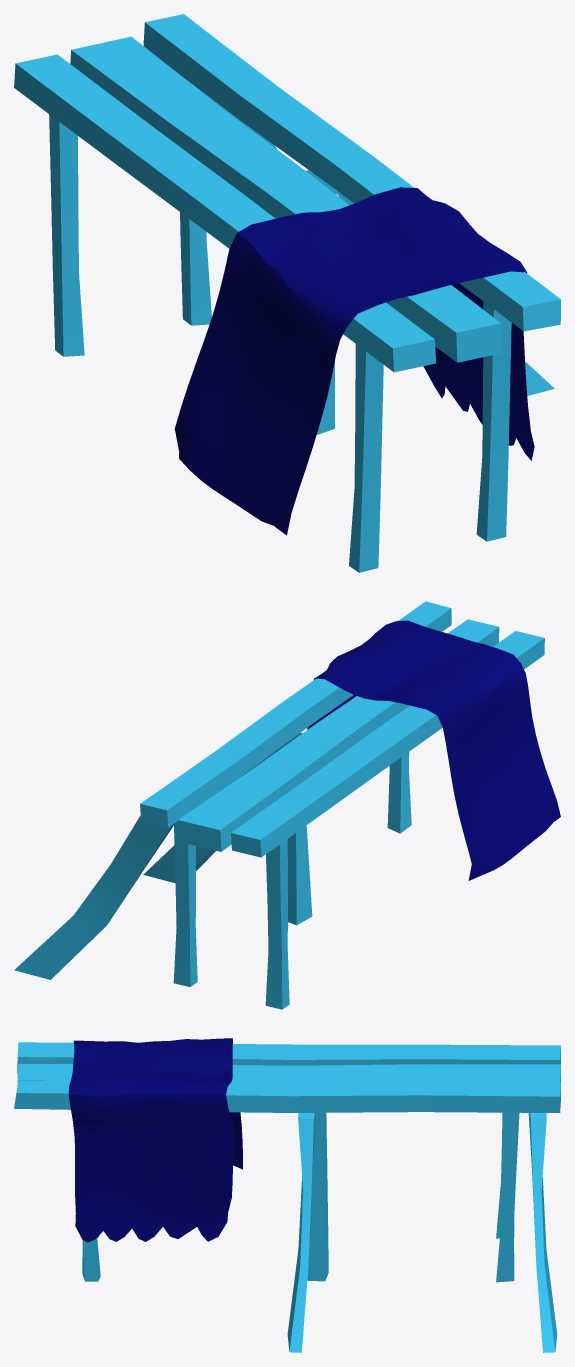
Rendered from Bench_B.fbx.
3 renders of one model, top to bottom at view 1: azimuth 30°, elevation 25°; view 2: azimuth 150°, elevation 25°; view 3: azimuth 270°, elevation 25°, orthographic. The views are drawn at different scales.
Parts seen in each view (by area): view 1: Bench_B; view 2: Bench_B; view 3: Bench_B.
Part boxes in pixels (box(x1,y1,x2,y2)): Bench_B: box(14, 14, 560, 572); Bench_B: box(14, 601, 560, 1009); Bench_B: box(14, 1038, 560, 1352).
Size of the model in its own units: 180 by 116 by 288.
